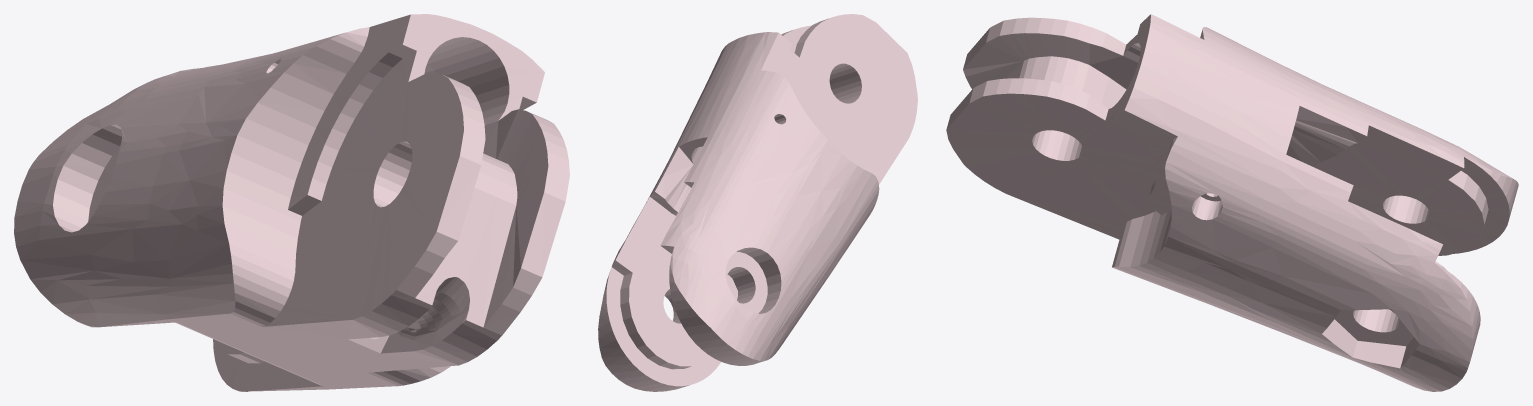
Rendered from i02_leftHand_majeureMid_visual.obj.balanced.glb.
3 views of the same model, side by side, from view 1: azimuth 30°, elevation 25°; view 2: azimuth 150°, elevation 25°; view 3: azimuth 270°, elevation 25° (orthographic). The views are drawn at different scales.
Size of the model in its own units: 0.1774 by 0.2775 by 0.393.
